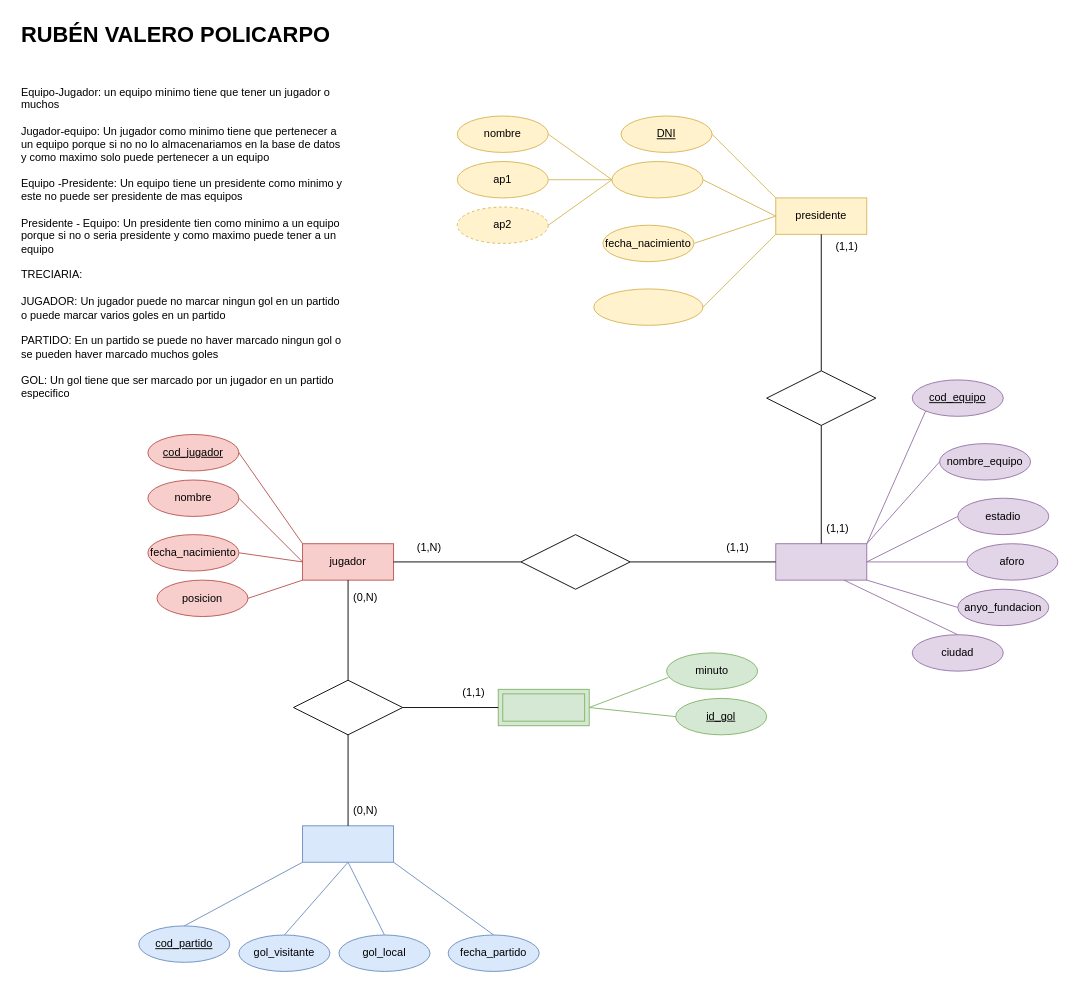
This 1074x987 diagram has some shape labels left out. Here are the shapes that lost their labels. From the top down, the centre of each, then its label:
(x=657, y=179): nombre_completo
(x=648, y=306): anyo_nombramiento
(x=821, y=397): tiene
(x=575, y=561): pertenece
(x=821, y=561): equipo
(x=348, y=707): marca
(x=543, y=707): gol
(x=348, y=843): partido
